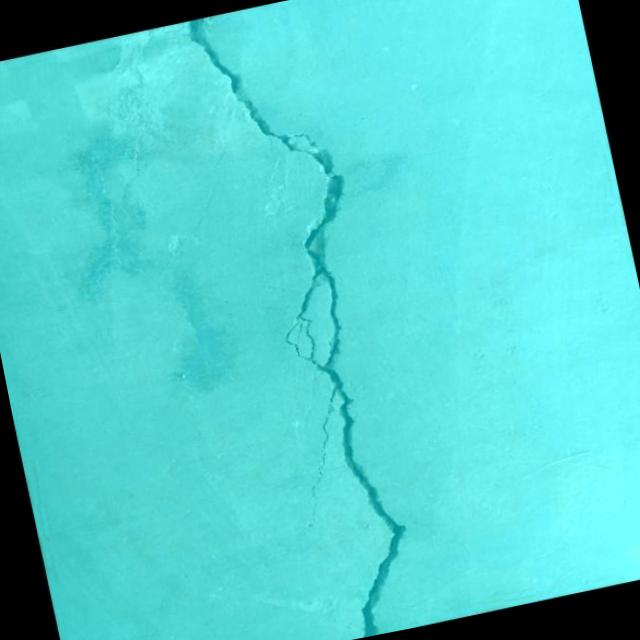crack: (185, 0, 440, 640)
